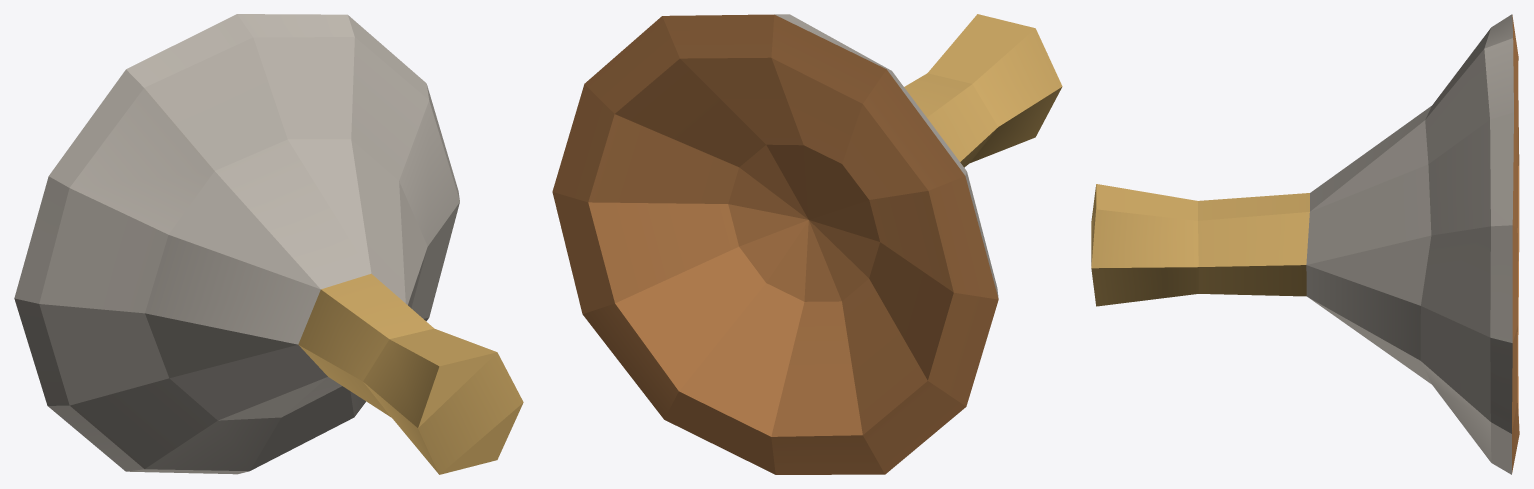
File: Lactarius.fbx
3 views of the same model, side by side, from view 1: azimuth 30°, elevation 25°; view 2: azimuth 150°, elevation 25°; view 3: azimuth 270°, elevation 25° (orthographic). The views are drawn at different scales.
Parts seen in each view (by area): view 1: Group5562; view 2: Group5562; view 3: Group5562.
Part boxes in pixels (left/top/right/bottom): Group5562: left=14, top=14, right=523, bottom=474; Group5562: left=552, top=14, right=1062, bottom=474; Group5562: left=1091, top=14, right=1519, bottom=474.
Bounding box in the file's own units: 46.37 × 45.81 × 42.95.
